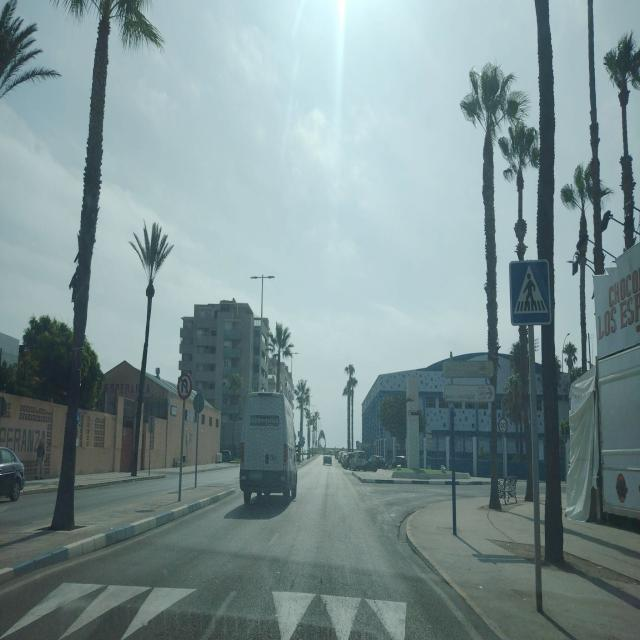car: (239, 390, 298, 502), (0, 444, 25, 504), (364, 454, 386, 470), (219, 448, 232, 463), (322, 453, 333, 466)
